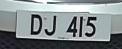1: (78, 13, 87, 40)
4: (65, 13, 79, 40)
5: (84, 14, 99, 40)
D: (28, 12, 44, 38)
J: (44, 13, 59, 38)
